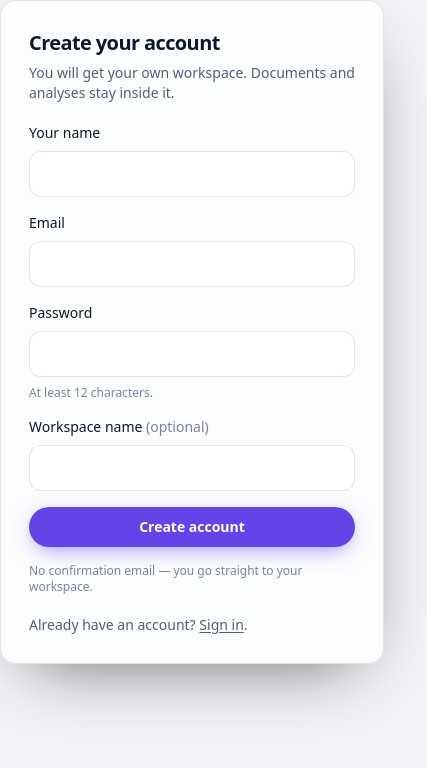
Scenario: registration › does not leave the chosen password in the DOM after a failure
In the field labelled "Your name": (192, 174) [29, 151, 355, 197], type "New Reader"
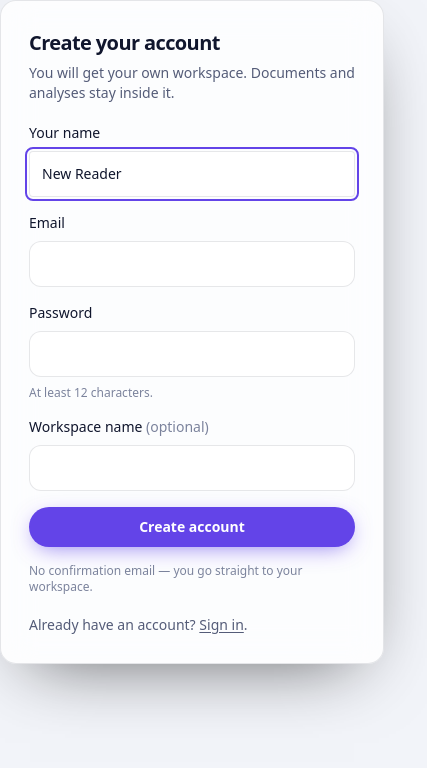
In the field labelled "Email": (192, 264) [29, 241, 355, 287], type "new@example.invalid"
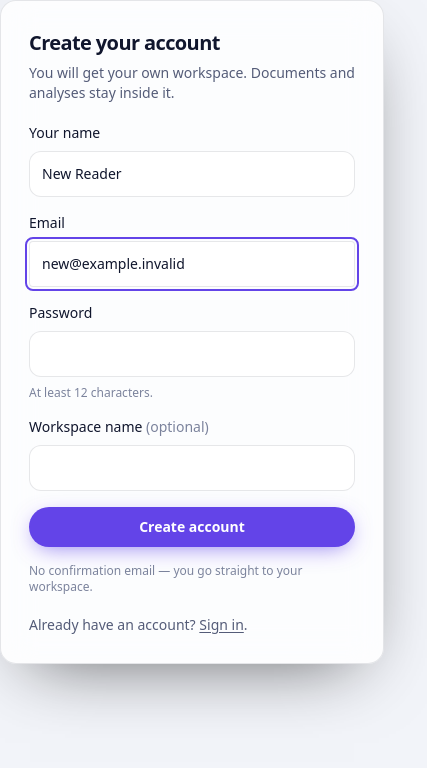
In the password field labelled "Password": (192, 354) [29, 331, 355, 377], type "correct horse battery staple"
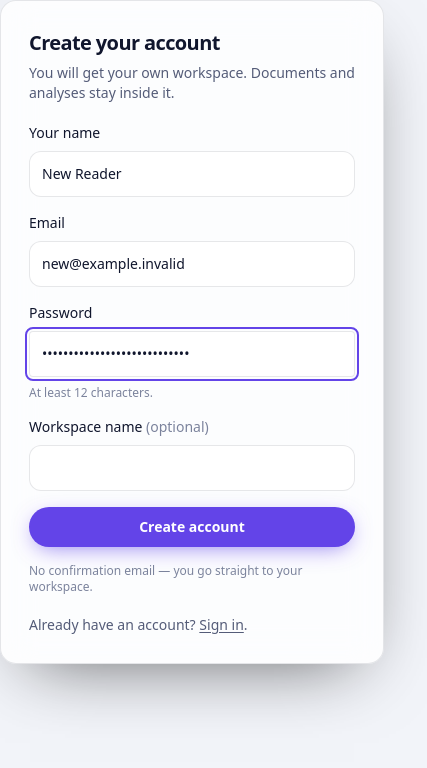
Click the button "Create account": (192, 527) [29, 507, 355, 547]
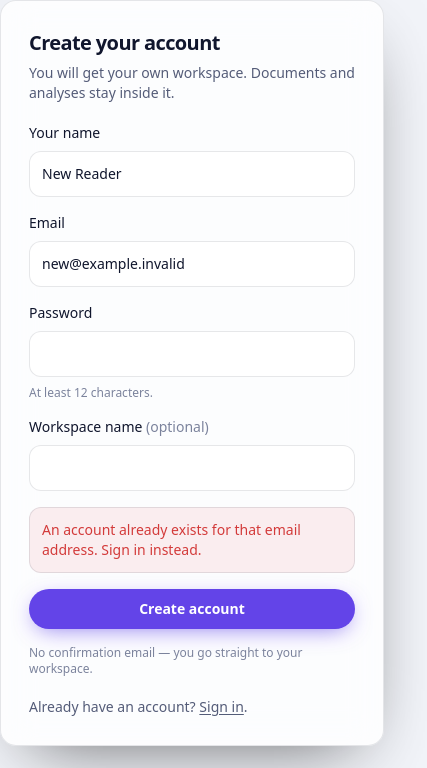
Now the message "An account already exists for that email address. Sign in instead." is shown, box [29, 507, 355, 573]
